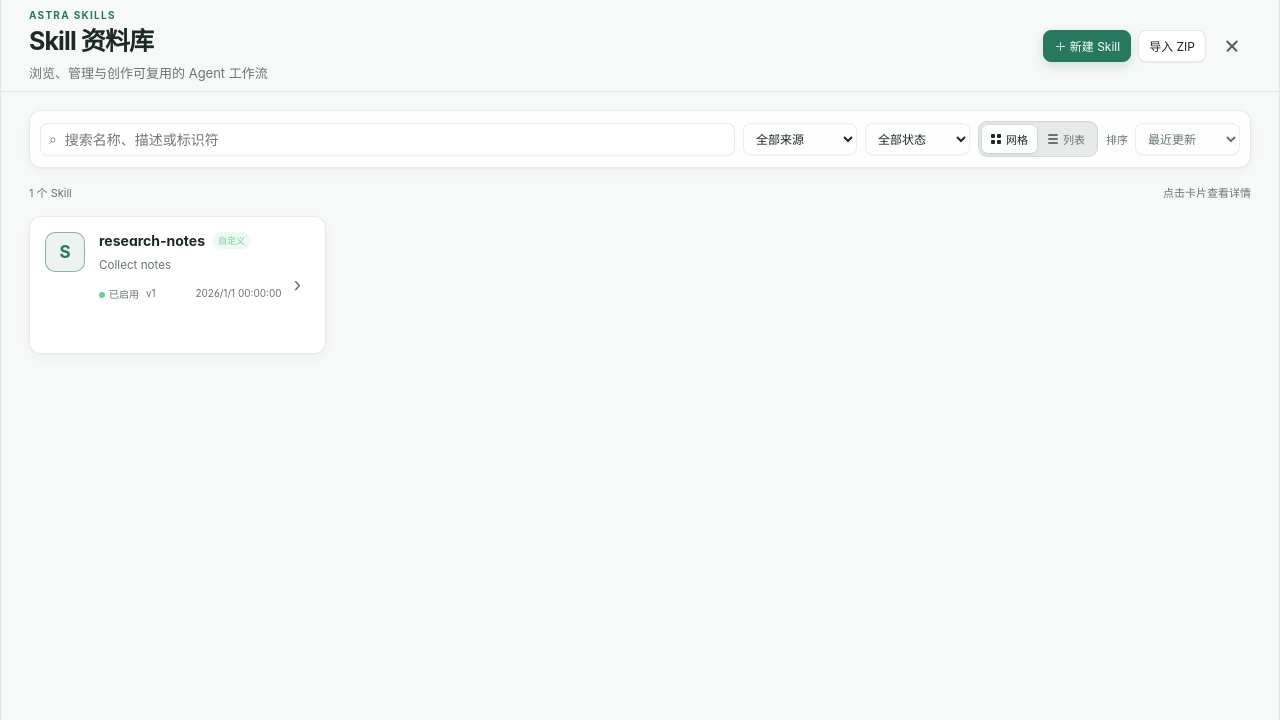
Scenario: SkillWorkbench › creates a Skill from the themed drawer and opens its editor
The width and height of the screenshot is (1280, 720).
Click the button "＋ 新建 Skill" at (1087, 46), box [1043,30,1131,62]
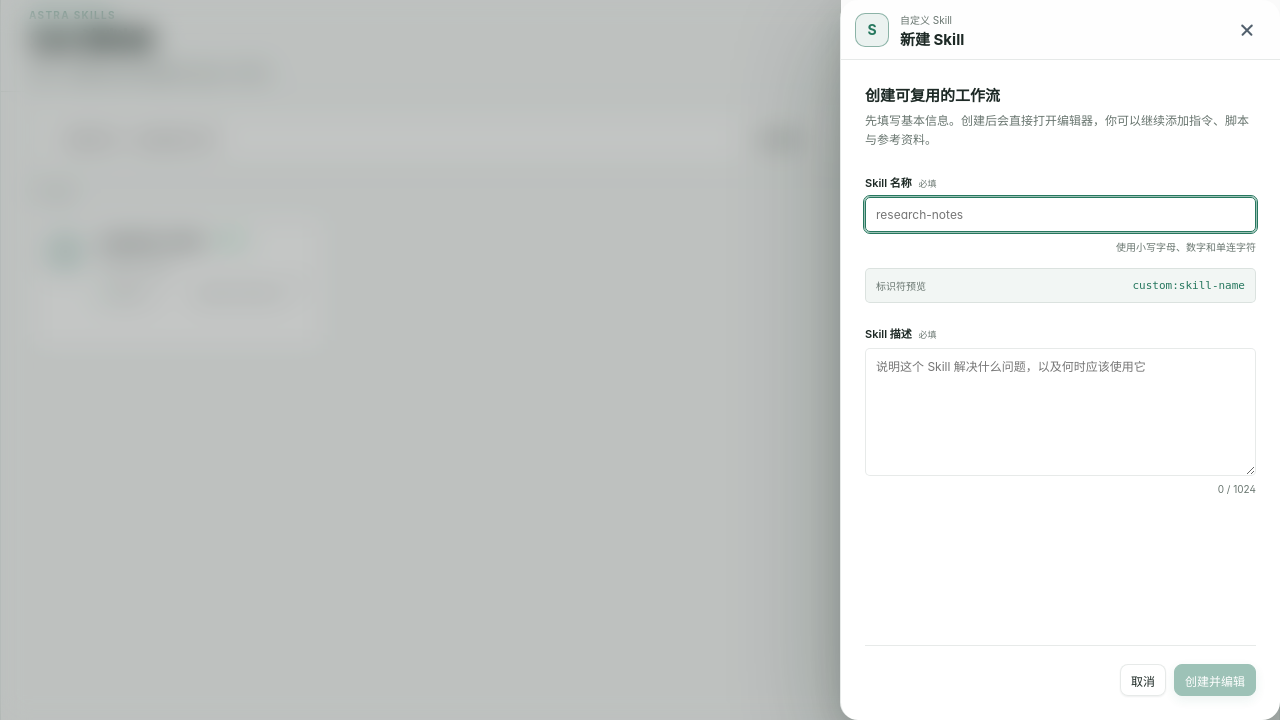
Now the dialog "新建 Skill" is shown, box [840,0,1279,719]
Now the button "创建并编辑" is disabled, box [1174,664,1256,696]
Type "Daily Research" into the field labelled "Skill 名称 必填 使用小写字母、数字和单连字符" at (1060, 215), box [865,197,1256,232]
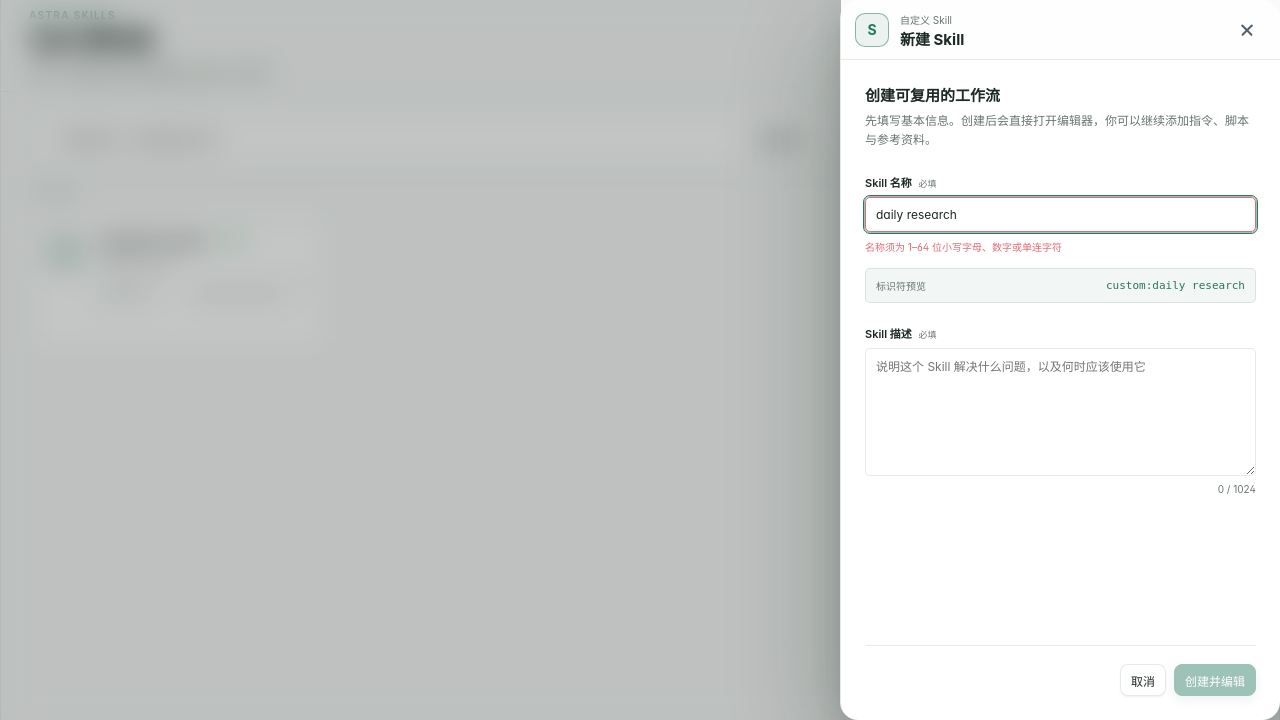
Now the text "名称须为 1–64 位小写字母、数字或单连字符" is shown, box [865,239,1062,254]
Replace the text in the field labelled "Skill 名称 必填 名称须为 1–64 位小写字母、数字或单连字符" with "daily-research" at (1060, 215), box [865,197,1256,232]
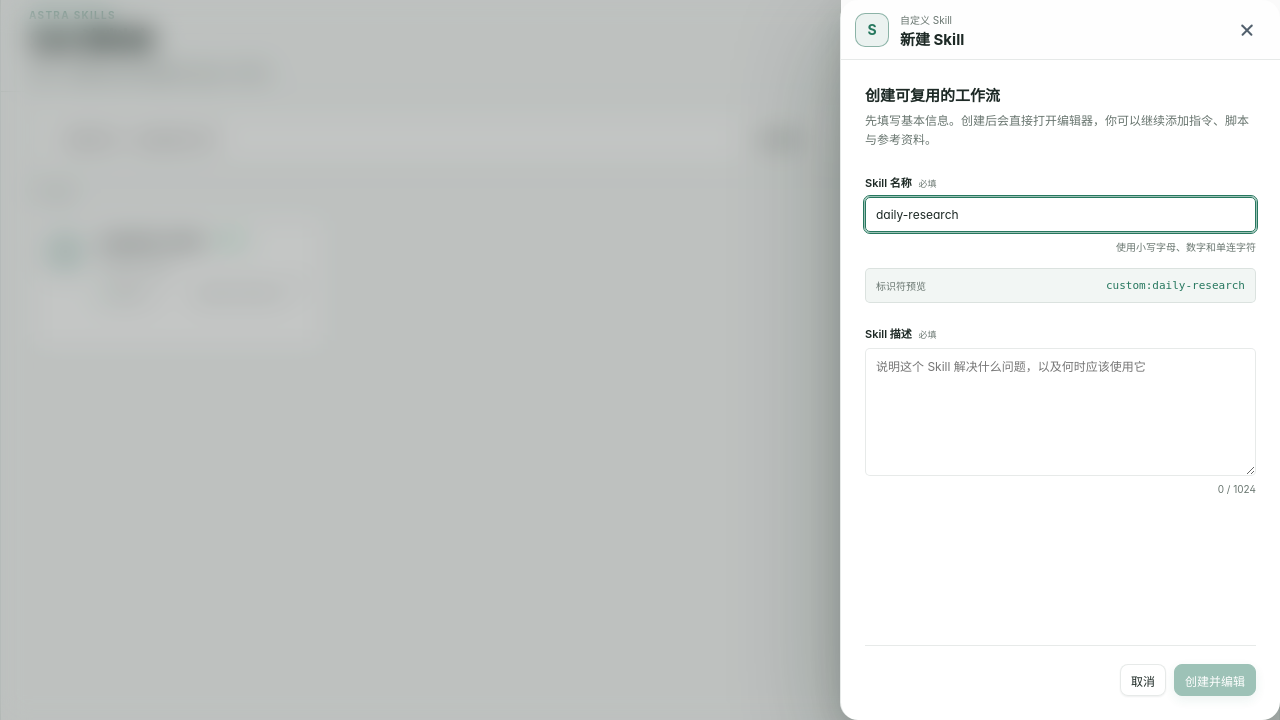
Type "Collect a daily research digest" into the text box labelled "Skill 描述 必填 0 / 1024" at (1060, 412), box [865,348,1256,476]
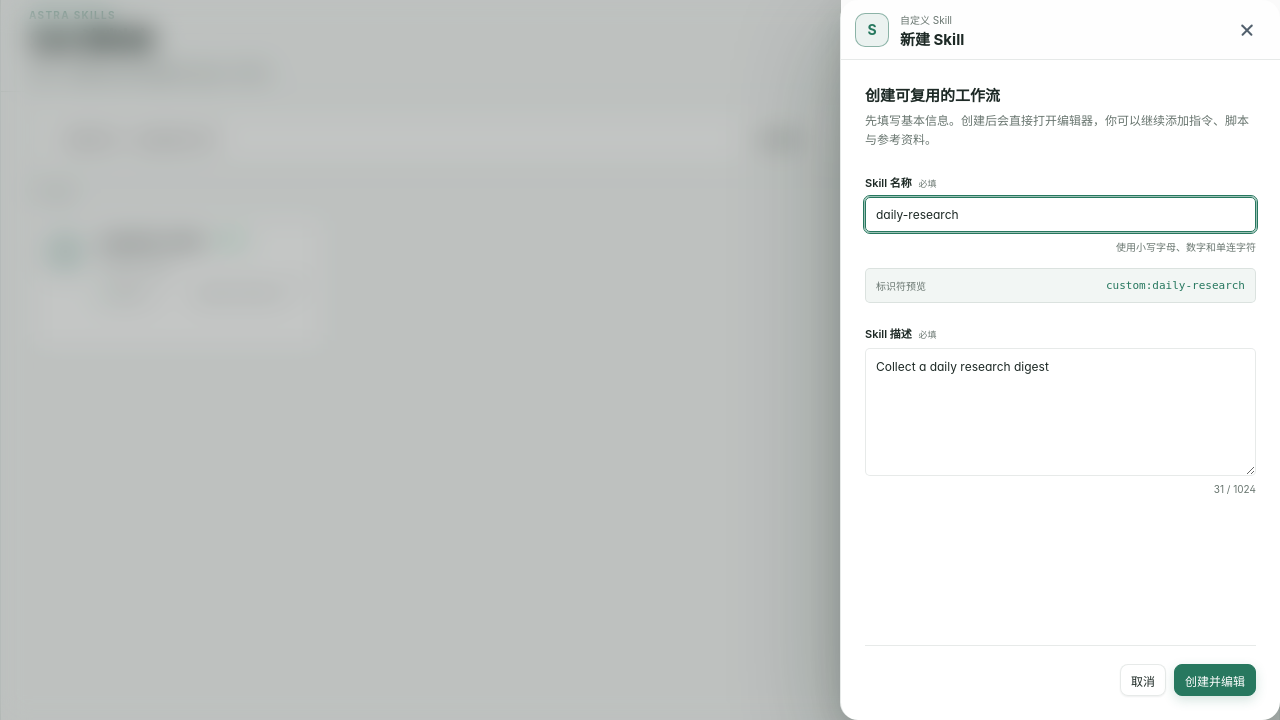
Click the button "创建并编辑" at (1215, 680), box [1174,664,1256,696]
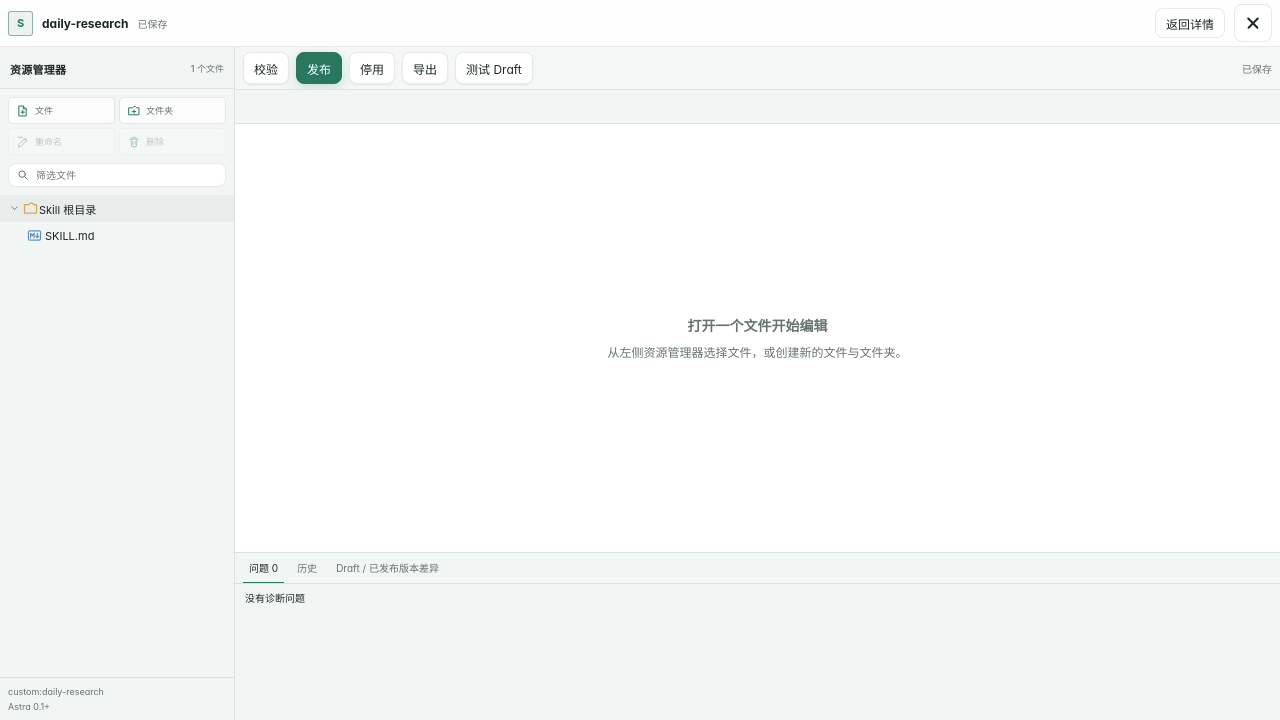
Now the button "发布" is shown, box [296,52,342,84]
